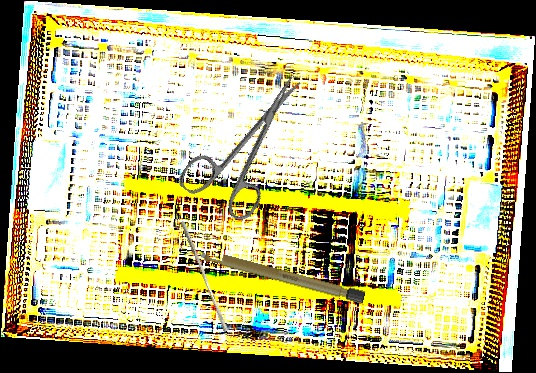Iris Scissors: (174, 57, 332, 230)
Pusher: (175, 220, 233, 333)
Scalpel Handle: (197, 247, 366, 304)
